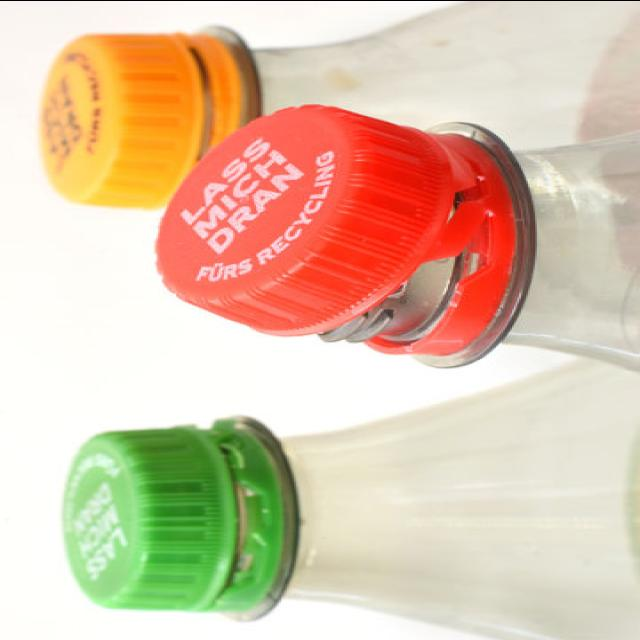neck: (282, 359, 636, 640), (252, 0, 638, 147), (503, 133, 639, 369)
